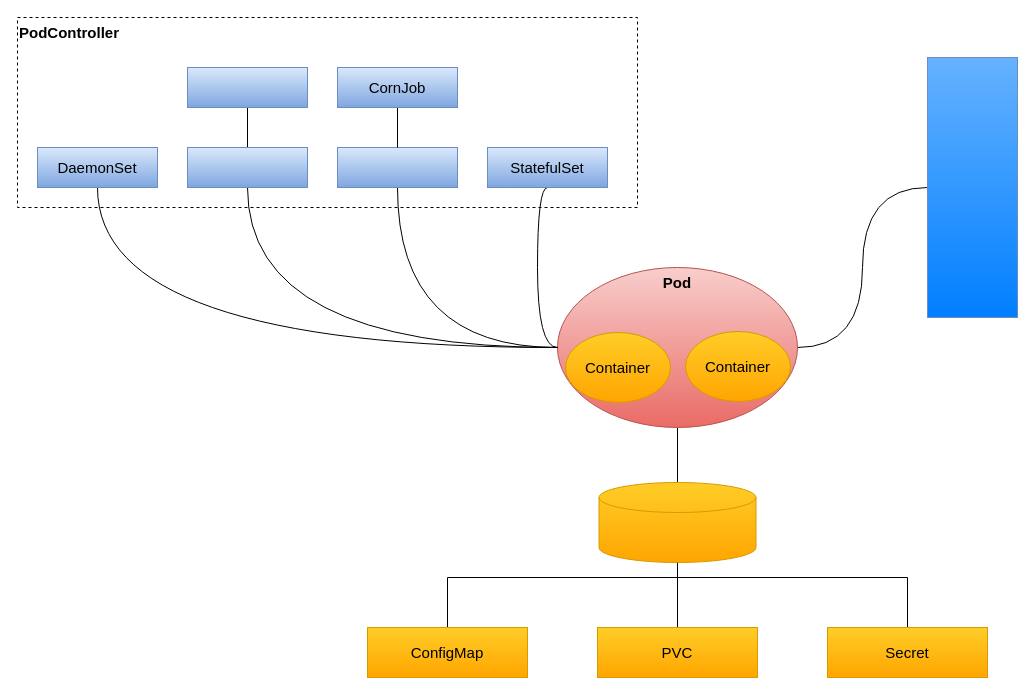
The diagram is 1035 pixels wide and 695 high, and some of its shapes have lost their labels. Each missing label, with the centre of its shape:
Deployment: pixel 247 87
Job: pixel 397 167
ReplicaSet: pixel 247 167
Service: pixel 972 187
Volume: pixel 677 522
